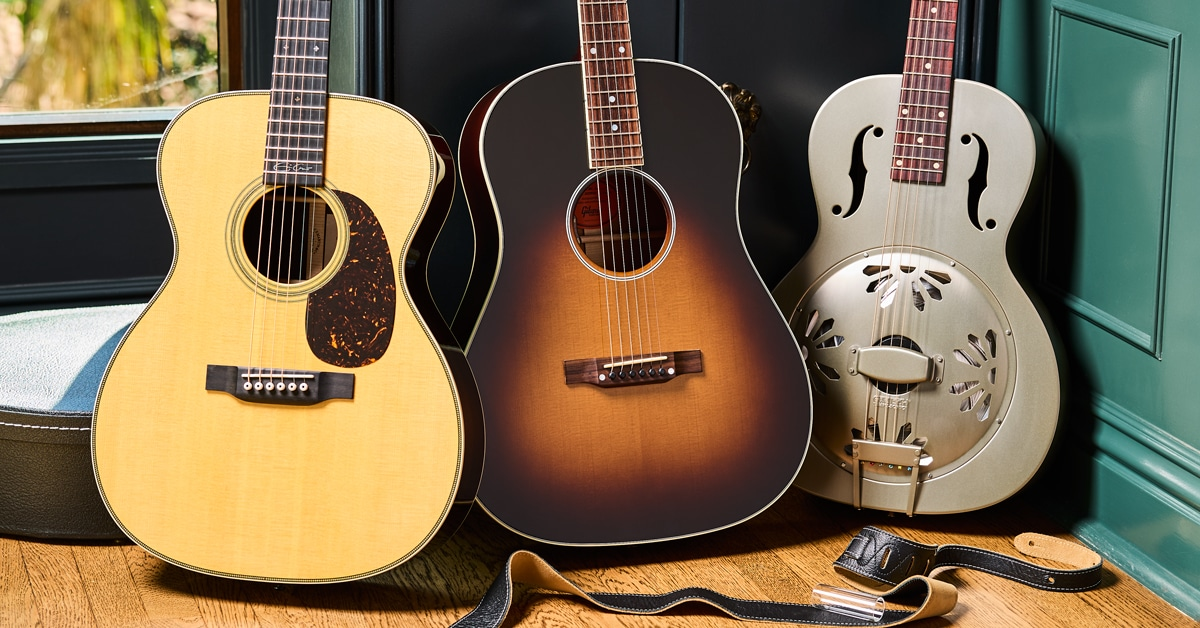guitar: (5, 0, 1153, 607), (442, 4, 817, 556), (787, 1, 1068, 516)
